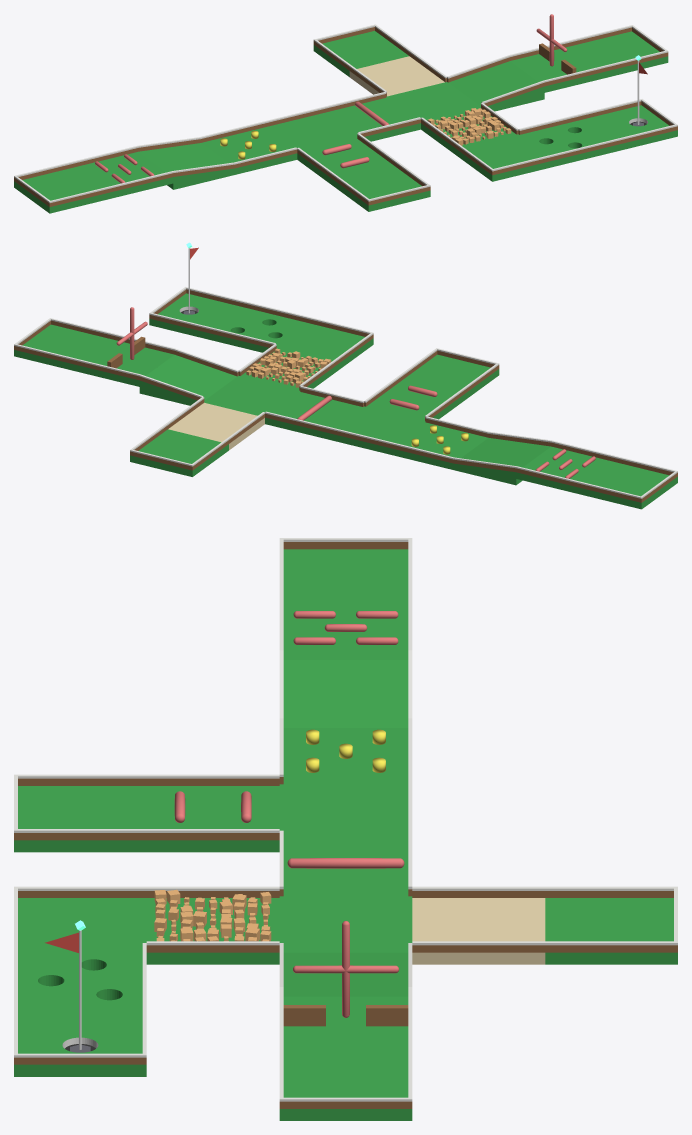
File: level_06.glb
3 renders of one model, top to bottom at view 1: azimuth 30°, elevation 25°; view 2: azimuth 150°, elevation 25°; view 3: azimuth 270°, elevation 25°, orthographic. The views are drawn at different scales.
Visible parts, largest first — view 1: DeadEnd_Floor (×3), Ramp_Floor (×2), Corner_Floor, Start_Floor, Holes_Floor, Cross_Floor, Sand_Floor, TJunction_Floor, Finish_Floor, Bumpers_Floor, Spinner_Floor, DeadEnd_Rails (×3) (+27 smaller); view 2: DeadEnd_Floor (×3), Ramp_Floor (×2), TJunction_Floor, Cross_Floor, Holes_Floor, Sand_Floor, Corner_Floor, Start_Floor, Finish_Floor, Spinner_Floor, Bumpers_Floor, DeadEnd_Rails (×3) (+17 smaller); view 3: DeadEnd_Floor (×3), Ramp_Floor (×2), Sand_Floor, TJunction_Floor, Cross_Floor, Start_Floor, Finish_Floor, Holes_Floor, SpinnerTwin_Floor, Corner_Floor, Bumpers_Floor, Spinner_Floor (+21 smaller).
Boxes of the visible parts, left/top/right/bottom form: DeadEnd_Floor (×3): left=14, top=31, right=668, bottom=213; Ramp_Floor (×2): left=139, top=61, right=544, bottom=189; Corner_Floor: left=456, top=134, right=554, bottom=181; Start_Floor: left=333, top=165, right=430, bottom=211; Holes_Floor: left=520, top=120, right=615, bottom=166; Cross_Floor: left=386, top=82, right=480, bottom=120; Sand_Floor: left=349, top=56, right=444, bottom=96; TJunction_Floor: left=263, top=113, right=357, bottom=151; Finish_Floor: left=582, top=105, right=677, bottom=151; Bumpers_Floor: left=201, top=128, right=297, bottom=174; Spinner_Floor: left=325, top=98, right=420, bottom=141; DeadEnd_Rails (×3): left=14, top=27, right=668, bottom=206; DeadEnd_Floor (×3): left=14, top=324, right=677, bottom=509; Ramp_Floor (×2): left=139, top=354, right=550, bottom=485; TJunction_Floor: left=328, top=406, right=425, bottom=454; Cross_Floor: left=204, top=375, right=300, bottom=415; Holes_Floor: left=212, top=308, right=309, bottom=352; Sand_Floor: left=168, top=402, right=264, bottom=450; Corner_Floor: left=276, top=323, right=373, bottom=370; Start_Floor: left=402, top=354, right=499, bottom=401; Finish_Floor: left=149, top=293, right=246, bottom=340; Spinner_Floor: left=265, top=392, right=362, bottom=439; Bumpers_Floor: left=390, top=422, right=488, bottom=469; DeadEnd_Rails (×3): left=14, top=320, right=677, bottom=502; DeadEnd_Floor (×3): left=279, top=549, right=677, bottom=1120; Ramp_Floor (×2): left=283, top=660, right=408, bottom=996; Sand_Floor: left=412, top=898, right=545, bottom=964; TJunction_Floor: left=279, top=784, right=408, bottom=840; Cross_Floor: left=279, top=896, right=412, bottom=952; Start_Floor: left=14, top=786, right=146, bottom=852; Finish_Floor: left=14, top=1008, right=146, bottom=1076; Holes_Floor: left=18, top=952, right=142, bottom=1008; SpinnerTwin_Floor: left=146, top=786, right=279, bottom=852; Corner_Floor: left=18, top=898, right=146, bottom=952; Bumpers_Floor: left=283, top=728, right=408, bottom=784; Spinner_Floor: left=283, top=840, right=408, bottom=896.
Size of what is drawn, in the model's own units: 100 by 11.38 by 50.
